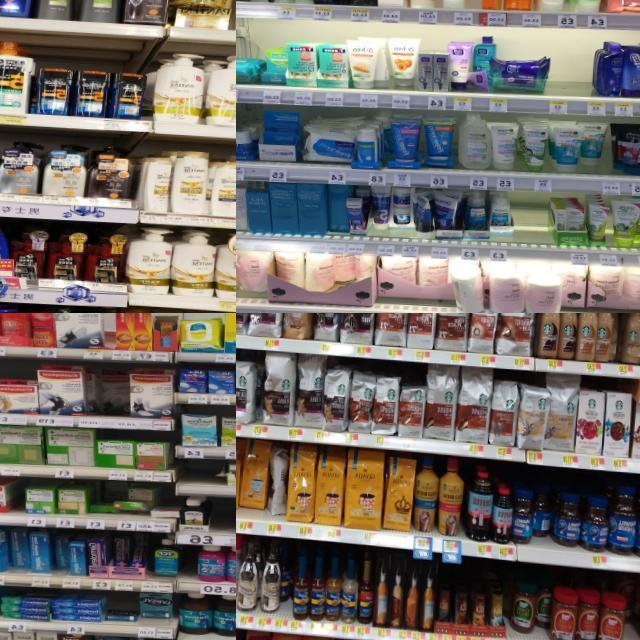Imprecise: (503, 572, 556, 640), (91, 480, 178, 520), (364, 181, 412, 238), (84, 368, 130, 420), (532, 486, 562, 550), (106, 537, 152, 578), (582, 118, 608, 178), (134, 594, 170, 632), (467, 72, 490, 89), (109, 609, 136, 621)
